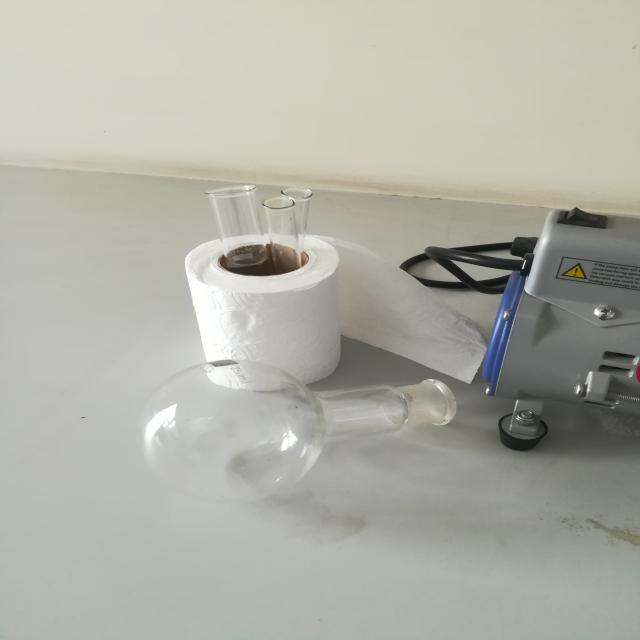Round_Bottom_Flask_Borosilicate_Glass_1_Neck: (82, 337, 509, 519)
